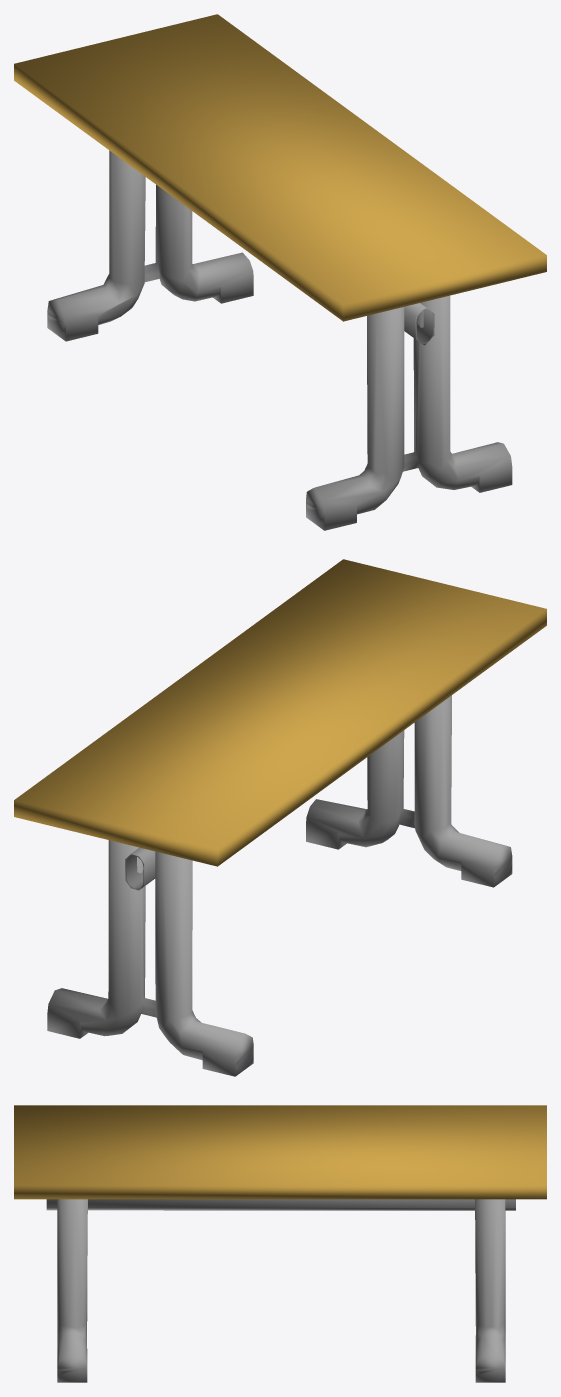
The model's file is Einzeltisch.fbx.
3 views of the same model, one above another, from view 1: azimuth 30°, elevation 25°; view 2: azimuth 150°, elevation 25°; view 3: azimuth 270°, elevation 25° (orthographic). The views are drawn at different scales.
Parts seen in each view (by area): view 1: Tisch_LOD0; view 2: Tisch_LOD0; view 3: Tisch_LOD0.
Boxes of the visible parts, x1,y1,x2,y2 form: Tisch_LOD0: [14, 14, 546, 530]; Tisch_LOD0: [14, 559, 546, 1076]; Tisch_LOD0: [14, 1105, 546, 1382].
Size of what is drawn, in the model's own units: 0.6368 by 0.7395 by 1.78.
